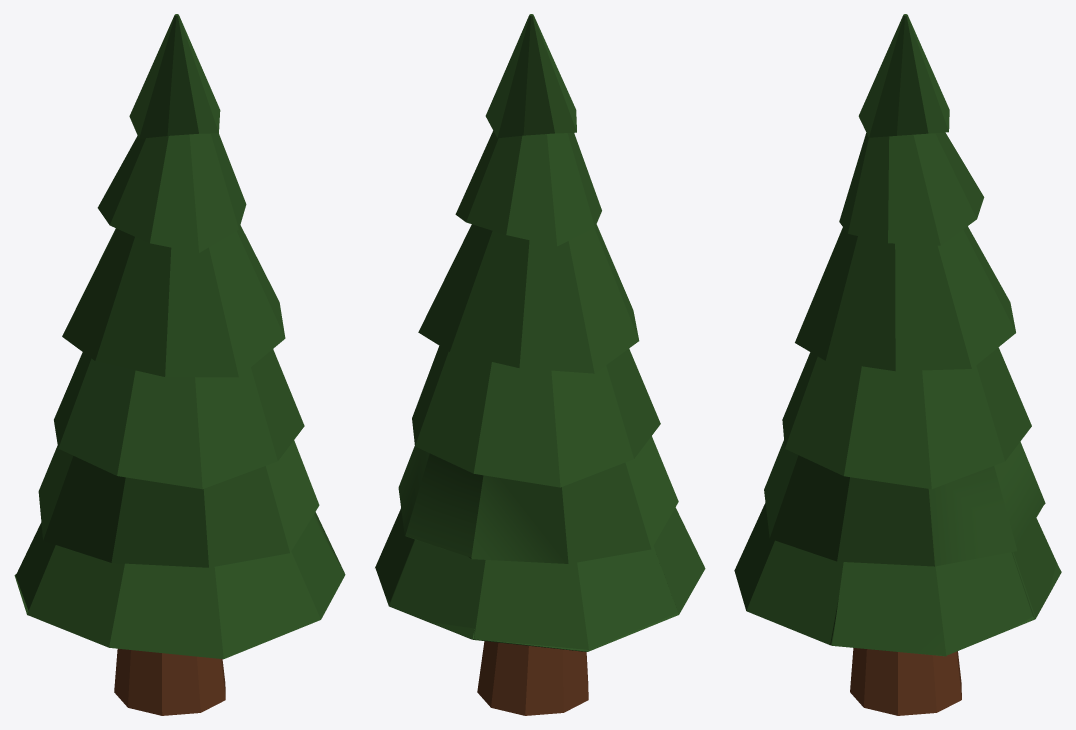
File: tree v3.fbx
3 views of the same model, side by side, from view 1: azimuth 30°, elevation 25°; view 2: azimuth 150°, elevation 25°; view 3: azimuth 270°, elevation 25° (orthographic).
Parts seen in each view (by area): view 1: lowpolytree:Mesh; view 2: lowpolytree:Mesh; view 3: lowpolytree:Mesh.
Boxes of the visible parts, x1=… form: lowpolytree:Mesh: x1=14, y1=14, x2=345, y2=715; lowpolytree:Mesh: x1=375, y1=14, x2=705, y2=715; lowpolytree:Mesh: x1=734, y1=14, x2=1061, y2=715.
Size of the model in its own units: 2.23 by 5.05 by 2.21.
